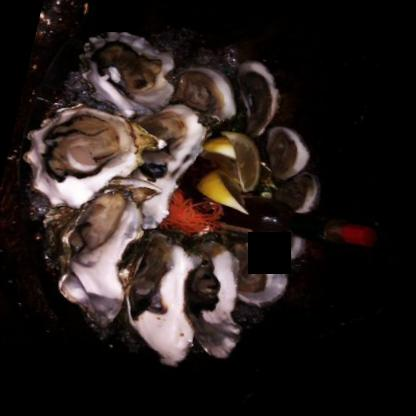oyster: (28, 160, 158, 323), (13, 97, 144, 218), (112, 232, 210, 366), (127, 99, 210, 234), (66, 25, 184, 116), (164, 58, 244, 130)
